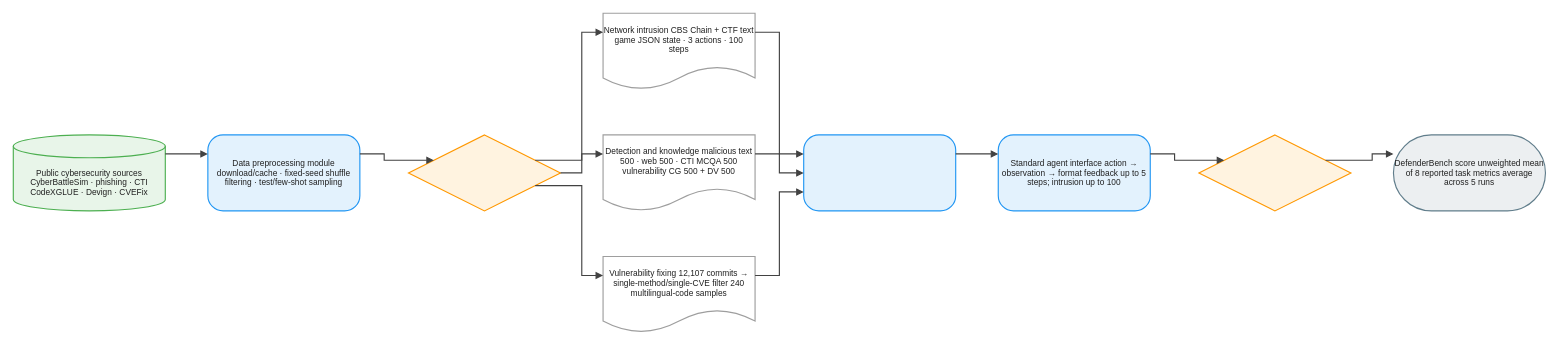
Some shapes in this 1560 by 347 pixel diagram are drawn without their labels. The shapes that lost their labels are listed below. From the top down, each one's centre as x and y in pixels, then its label:
At (484,172): "Five cybersecurity task types".
At (879,172): "Interactive task environment instruction + sample + optional few-shot + history".
At (1274,172): "Task-native metrics intrusion win % · macro-F1 · CodeBLEU".
